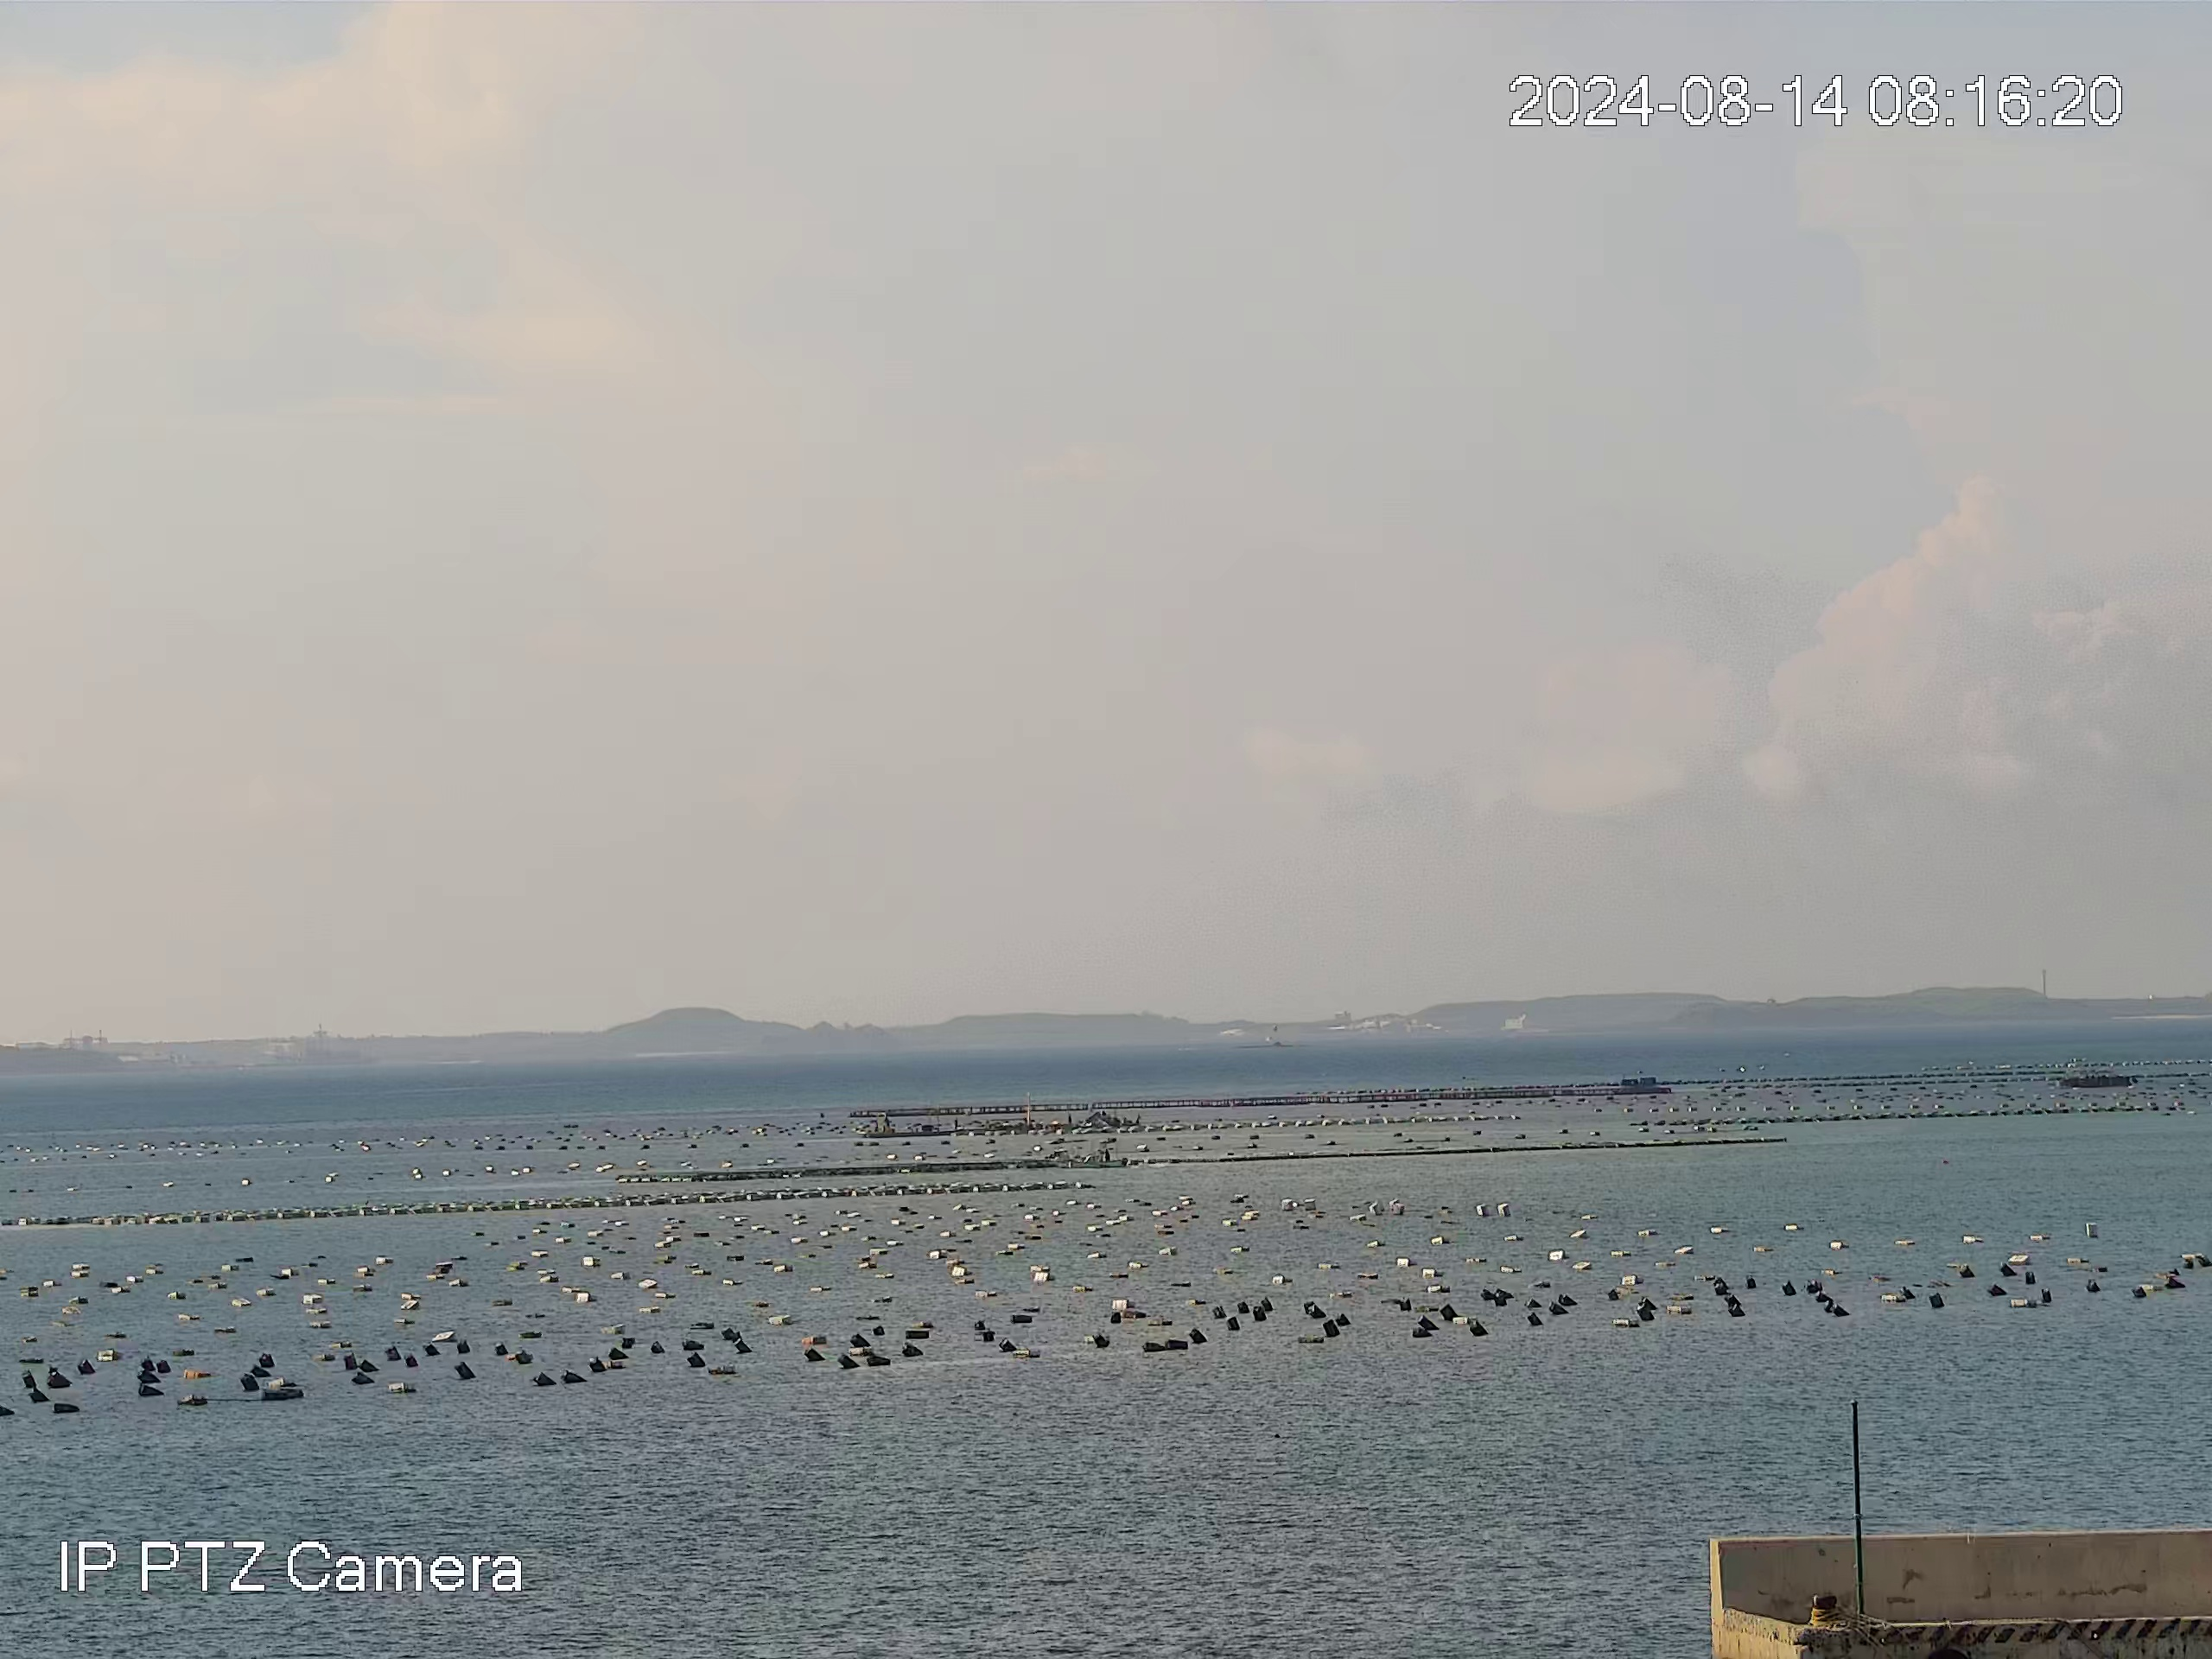boat: (2064, 1065, 2139, 1087), (855, 1112, 904, 1136), (1085, 1145, 1129, 1169)
